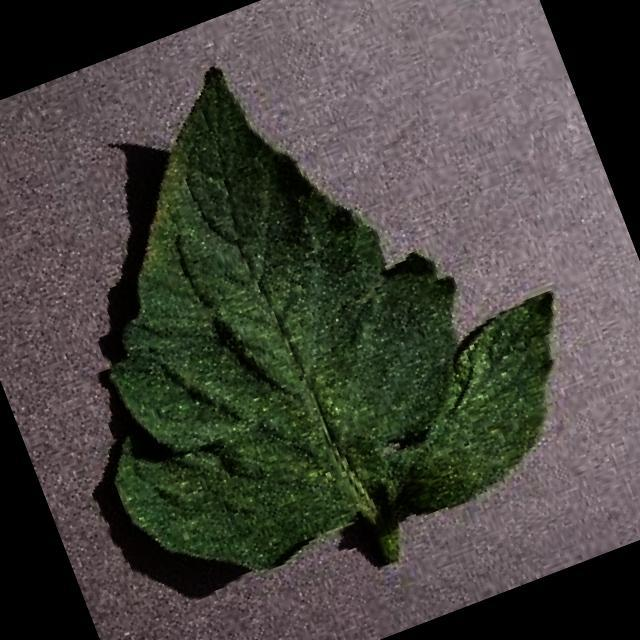Tomato spider mites leaf: (0, 0, 610, 620)
